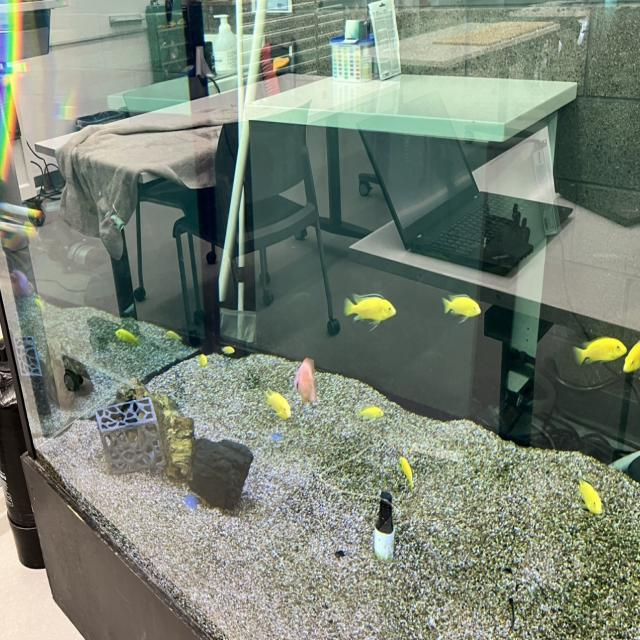YellowCichlid: (338, 280, 400, 336), (568, 327, 620, 378), (260, 381, 299, 428), (438, 290, 488, 323), (576, 476, 606, 524), (395, 450, 423, 496), (356, 400, 392, 431), (110, 322, 134, 350), (627, 339, 640, 389), (164, 327, 186, 348), (199, 350, 213, 380), (221, 342, 240, 358)
